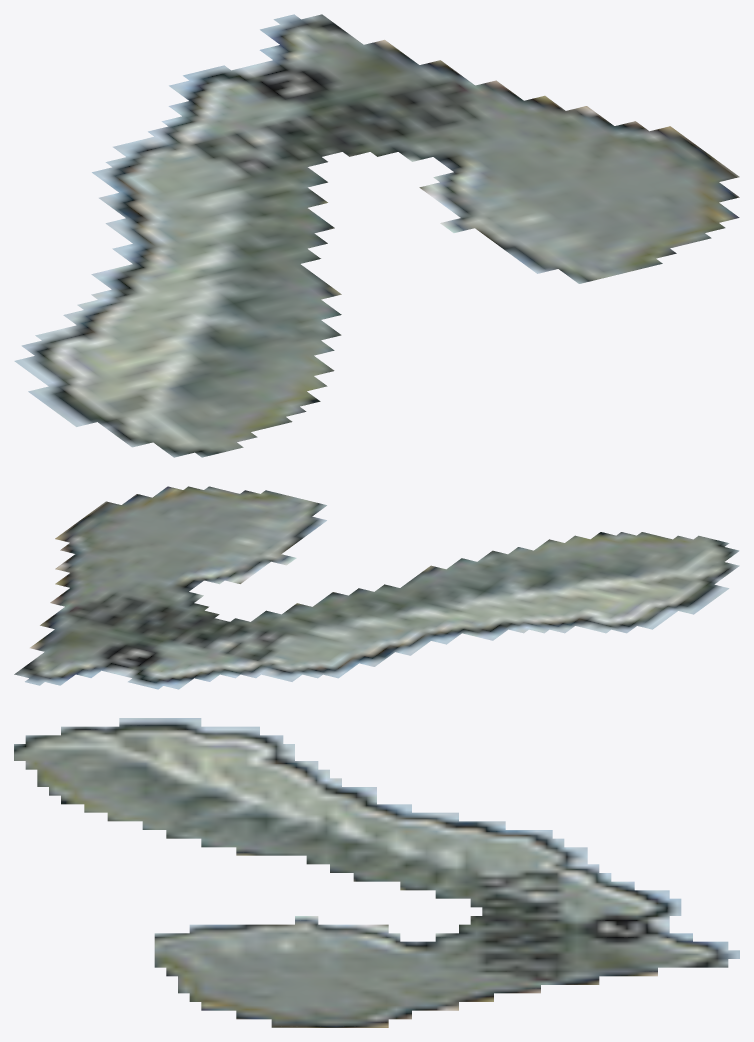
File: finland-norway.gltf
The picture shows the model from 3 angles, top to bottom: view 1: azimuth 30°, elevation 25°; view 2: azimuth 150°, elevation 25°; view 3: azimuth 270°, elevation 25°; orthographic projection. The views are drawn at different scales.
Visible parts, largest first — view 1: Plane; view 2: Plane; view 3: Plane.
Part boxes in pixels (box(x1,y1,x2,y2)): Plane: box(14, 14, 739, 457); Plane: box(14, 486, 739, 689); Plane: box(14, 718, 739, 1027).
Size of the model in its own units: 0.3554 by 0 by 0.3521.
Materials: 1 (1 with a texture image).
